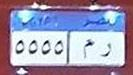5: (40, 39, 52, 58), (27, 39, 39, 56), (14, 39, 26, 56), (54, 40, 65, 58)
meem: (82, 37, 94, 61)
raa: (100, 41, 114, 60)
